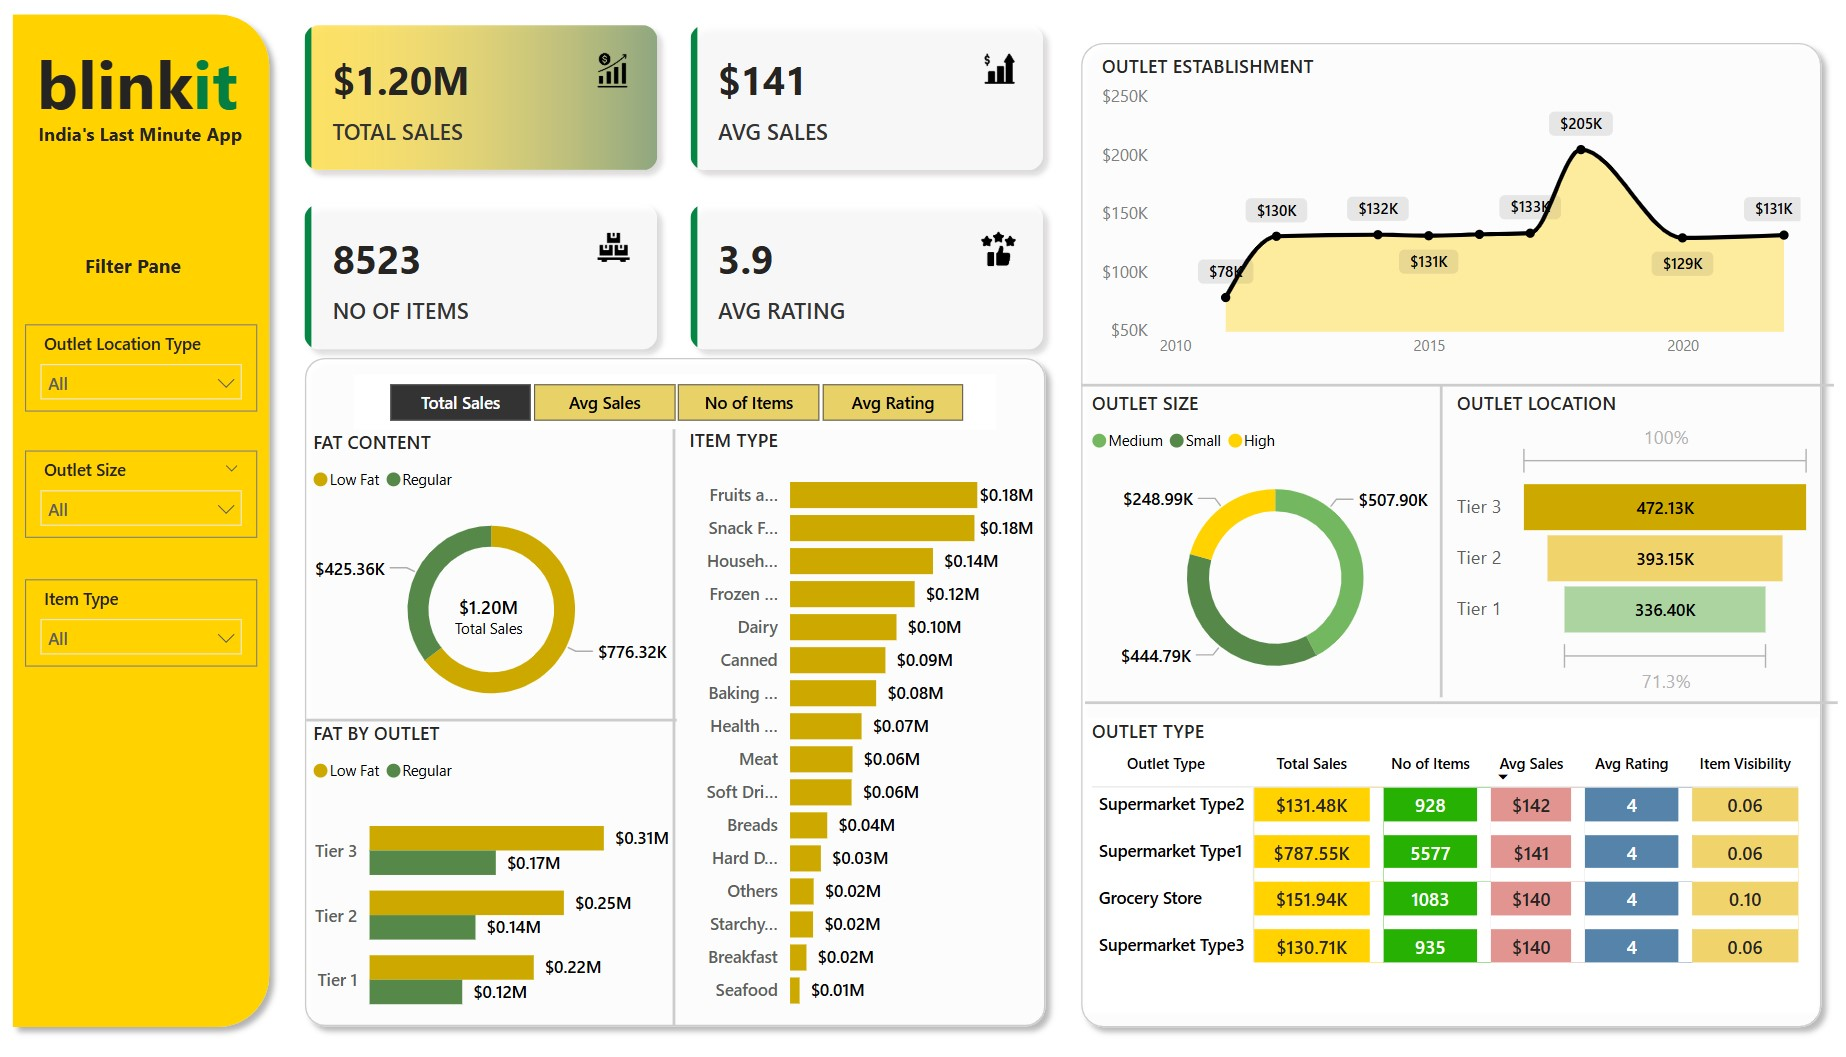

What the dashboard file says about the page in this screenshot:
{"tool":"powerbi","page":{"name":"Page 1","canvas":[1400,800],"ordinal":0},"visuals":[{"type":"shape","box":[0,24.1,203.8,750.7],"z":0},{"type":"textbox","box":[252,682.3,203.8,92.5],"z":1000},{"type":"textbox","box":[21.4,45.6,171.6,75.1],"z":2000},{"type":"textbox","box":[718.5,24.1,203.8,353.9],"z":3000},{"type":"textbox","box":[22.8,105.9,167.6,30.8],"z":4000},{"type":"cardVisual","fields":{"Data":["BlinkIT Grocery Data.Total Sales","BlinkIT Grocery Data.Avg Sales","BlinkIT Grocery Data.No of Items","BlinkIT Grocery Data.Avg Rating"]},"box":[203.8,24.1,569.7,269.4],"z":5000},{"type":"shape","box":[211.8,273.5,553.6,501.3],"z":6000},{"type":"donutChart","title":"FAT CONTENT","fields":{"Y":["BlinkIT Grocery Data.Total Sales"],"Category":["BlinkIT Grocery Data.Item Fat Content"]},"box":[221.2,333.8,268.1,215.8],"z":7000},{"type":"slicer","fields":{"Values":["Metrics.Metrics"]},"box":[256,293.6,465.1,40.2],"z":8000},{"type":"cardVisual","fields":{"Data":["BlinkIT Grocery Data.Total Sales"]},"box":[297.6,435.7,112.6,64.3],"z":9000},{"type":"clusteredBarChart","title":"FAT BY OUTLET","fields":{"Y":["BlinkIT Grocery Data.Total Sales"],"Category":["BlinkIT Grocery Data.Outlet Location Type"],"Series":["BlinkIT Grocery Data.Item Fat Content"]},"box":[221.2,544.2,268.1,230.6],"z":10000},{"type":"shape","box":[221.2,537.5,268.1,12.1],"z":11000},{"type":"shape","box":[482.6,333.8,9.4,431.6],"z":12000},{"type":"barChart","title":"ITEM TYPE","fields":{"Y":["BlinkIT Grocery Data.Total Sales"],"Category":["BlinkIT Grocery Data.Item Type"]},"box":[493.3,332.2,258.9,432.2],"z":13000},{"type":"shape","box":[773.3,45.6,553.3,730],"z":14000},{"type":"lineChart","title":"OUTLET ESTABLISHMENT","fields":{"Category":["BlinkIT Grocery Data.Outlet Establishment Year"],"Y":["BlinkIT Grocery Data.Total Sales"]},"box":[792.2,61.1,515.6,228.9],"z":15000},{"type":"shape","box":[782.2,295.6,544.4,12.2],"z":16000},{"type":"donutChart","title":"OUTLET SIZE","fields":{"Y":["BlinkIT Grocery Data.Total Sales"],"Category":["BlinkIT Grocery Data.Outlet Size"]},"box":[784.4,305.6,275.6,225.6],"z":17000},{"type":"shape","box":[1035.6,302.2,14.4,225.6],"z":18000},{"type":"funnel","title":"OUTLET LOCATION","fields":{"Y":["Sum(BlinkIT Grocery Data.Sales)"],"Category":["BlinkIT Grocery Data.Outlet Location Type"]},"box":[1048.9,305.6,267.8,225.6],"z":19000},{"type":"shape","box":[784.4,525.6,544.4,12.2],"z":20000},{"type":"pivotTable","title":"OUTLET TYPE","fields":{"Rows":["BlinkIT Grocery Data.Outlet Type"],"Values":["BlinkIT Grocery Data.Total Sales","BlinkIT Grocery Data.No of Items","BlinkIT Grocery Data.Avg Sales","BlinkIT Grocery Data.Avg Rating","Avg(BlinkIT Grocery Data.Item Visibility)"]},"box":[784.4,542.2,530,213.3],"z":21000},{"type":"slicer","fields":{"Values":["BlinkIT Grocery Data.Outlet Location Type"]},"box":[17.8,257.8,167.8,63.3],"z":21001},{"type":"slicer","fields":{"Values":["BlinkIT Grocery Data.Outlet Size"]},"box":[17.8,348.9,167.8,63.3],"z":21002},{"type":"slicer","fields":{"Values":["BlinkIT Grocery Data.Item Type"]},"box":[17.8,442.2,167.8,63.3],"z":21003},{"type":"textbox","box":[18.9,201.1,154.4,30],"z":21006}]}

Visuals, with their boxes in screenshot pixels (x1, y1, x2, y2), scaled from the page's 1400x800 canvas onto the 1846x1057 screenshot:
shape: <box>0,32,269,1024</box>
textbox: <box>332,901,601,1024</box>
textbox: <box>28,60,254,159</box>
textbox: <box>947,32,1216,499</box>
textbox: <box>30,140,251,181</box>
cardVisual - BlinkIT Grocery Data.Total Sales x BlinkIT Grocery Data.Avg Sales: <box>269,32,1020,388</box>
shape: <box>279,361,1009,1024</box>
"FAT CONTENT" donutChart: <box>292,441,645,726</box>
slicer - Metrics.Metrics: <box>338,388,951,441</box>
cardVisual - BlinkIT Grocery Data.Total Sales: <box>392,576,541,661</box>
"FAT BY OUTLET" clusteredBarChart: <box>292,719,645,1024</box>
shape: <box>292,710,645,726</box>
shape: <box>636,441,649,1011</box>
"ITEM TYPE" barChart: <box>650,439,992,1010</box>
shape: <box>1020,60,1749,1025</box>
"OUTLET ESTABLISHMENT" lineChart: <box>1045,81,1724,383</box>
shape: <box>1031,391,1749,407</box>
"OUTLET SIZE" donutChart: <box>1034,404,1398,702</box>
shape: <box>1366,399,1384,697</box>
"OUTLET LOCATION" funnel: <box>1383,404,1736,702</box>
shape: <box>1034,694,1752,711</box>
"OUTLET TYPE" pivotTable: <box>1034,716,1733,998</box>
slicer - BlinkIT Grocery Data.Outlet Location Type: <box>23,341,245,424</box>
slicer - BlinkIT Grocery Data.Outlet Size: <box>23,461,245,545</box>
slicer - BlinkIT Grocery Data.Item Type: <box>23,584,245,668</box>
textbox: <box>25,266,229,305</box>
